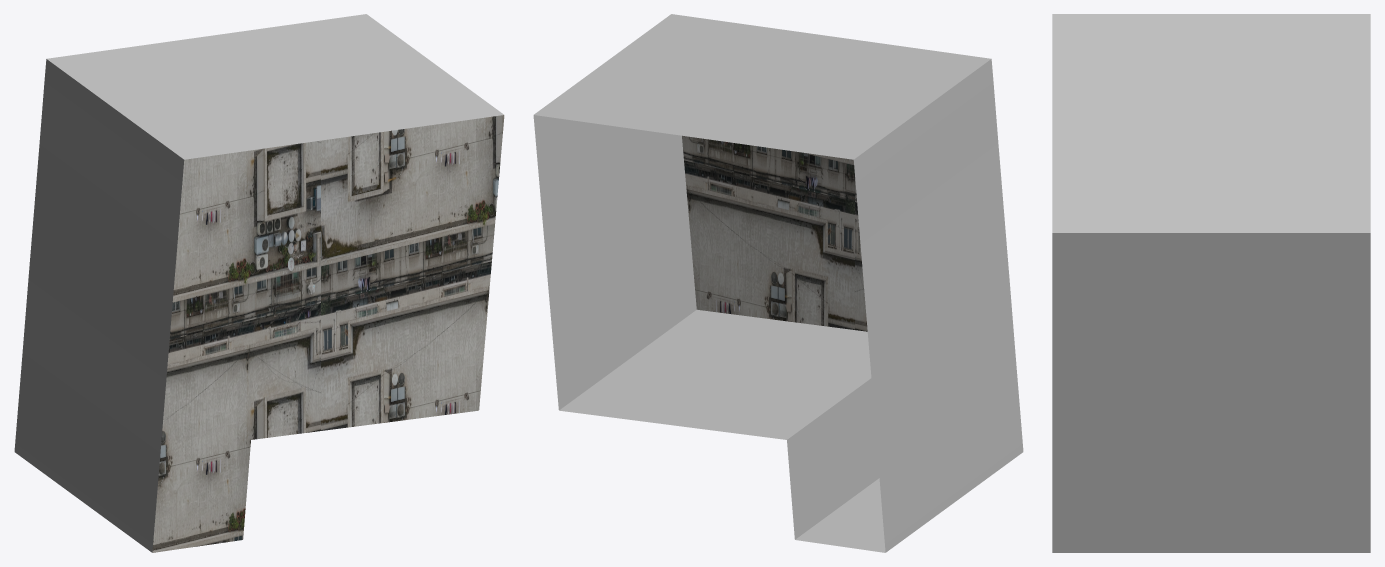
The model's file is geospecific_1470.obj.
3 views of the same model, side by side, from view 1: azimuth 30°, elevation 25°; view 2: azimuth 150°, elevation 25°; view 3: azimuth 270°, elevation 25° (orthographic). The views are drawn at different scales.
Parts seen in each view (by area): view 1: Building; view 2: Building; view 3: Building.
Part boxes in pixels (x1=…): Building: x1=14, y1=14, x2=504, y2=552; Building: x1=533, y1=14, x2=1023, y2=552; Building: x1=1052, y1=14, x2=1370, y2=552.
Size of the model in its own units: 22.11 by 23.67 by 15.
